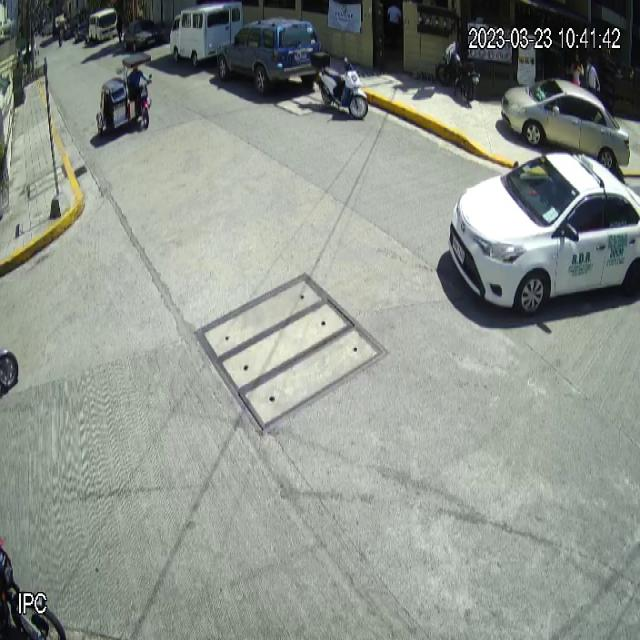Car: (448, 152, 640, 314), (501, 75, 632, 172), (216, 16, 323, 96)
Motorcycle: (311, 48, 369, 120)
Tricycle: (96, 50, 154, 139)
Van: (169, 0, 242, 69)
